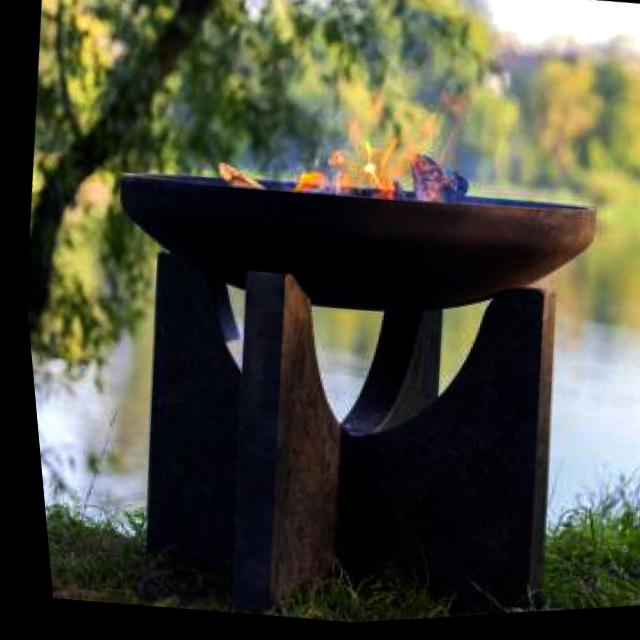helmet: (199, 118, 442, 224)
